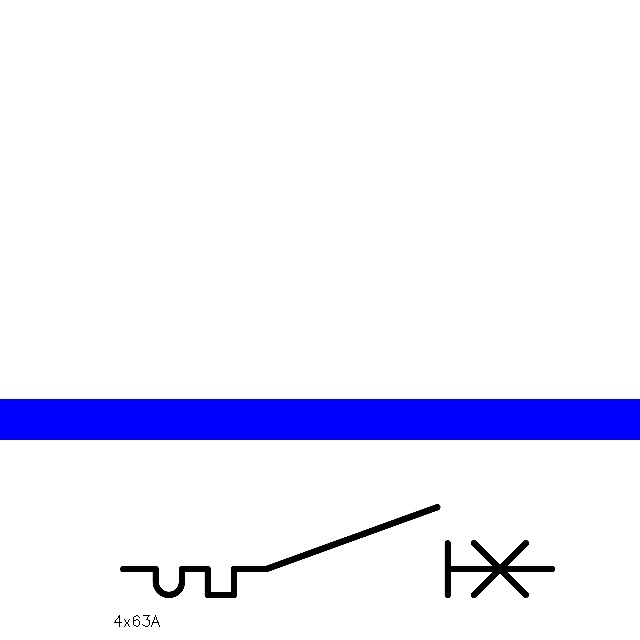interruptor_termomagnetico: (112, 496, 563, 606)
